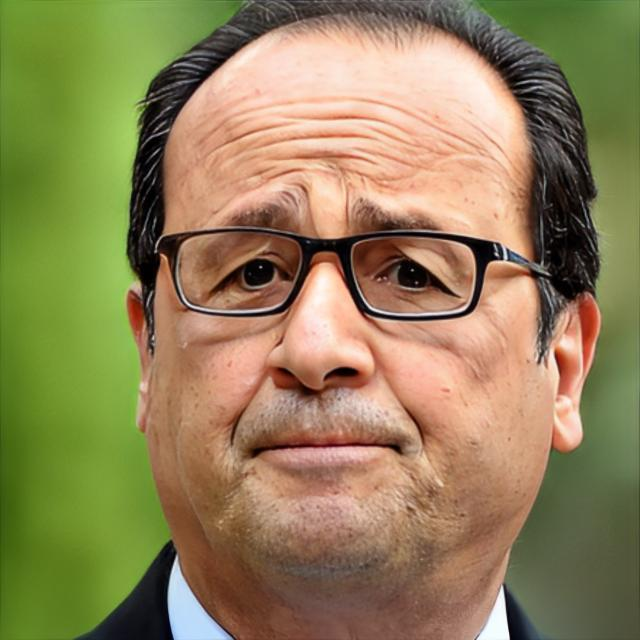sad: (148, 64, 552, 586)
